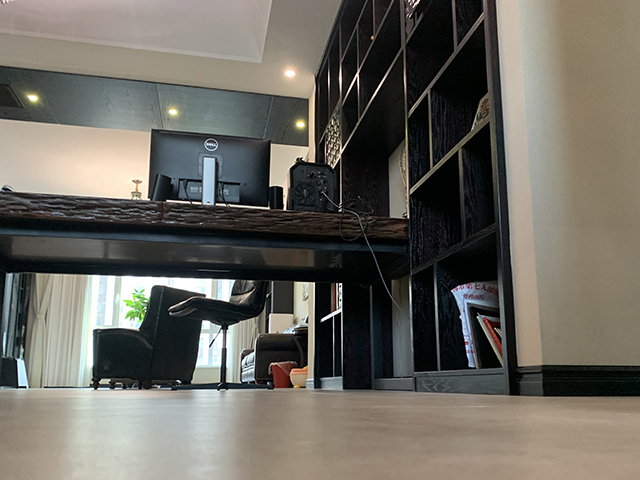cabinet: (313, 225, 514, 396)
curtain: (25, 273, 99, 389)
sofa: (89, 284, 210, 390), (239, 316, 308, 387)
stool: (168, 279, 275, 390)
table: (1, 188, 415, 391)
trashcan: (270, 361, 295, 390)
